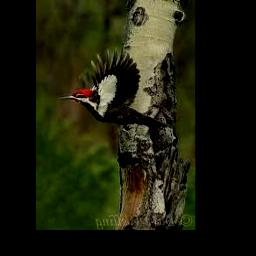Woodpecker: (59, 48, 171, 133)
